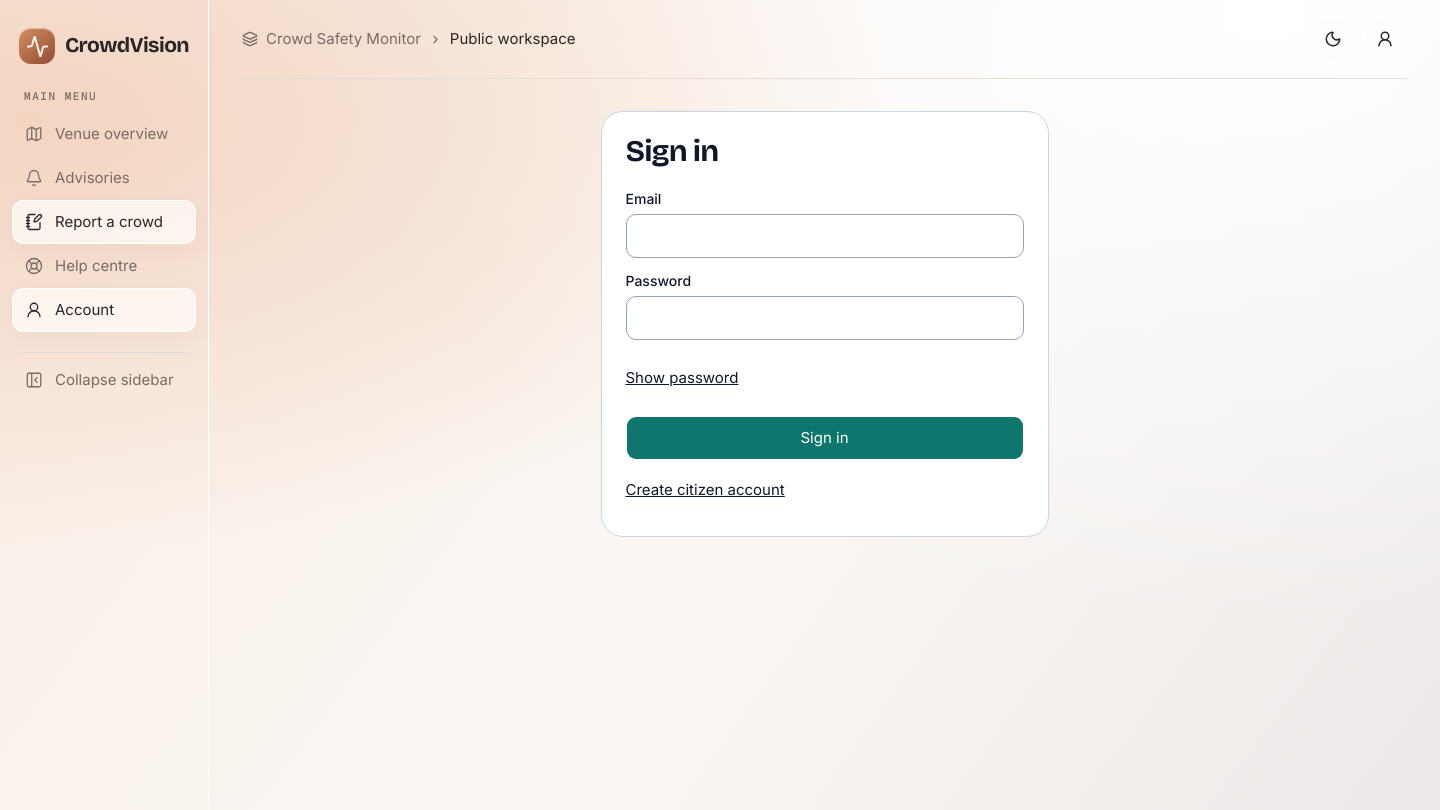
maps server response 401
Type "a@example.com" into the field labelled "Email" at [824, 236], box x1=626 y1=214 x2=1024 y2=258
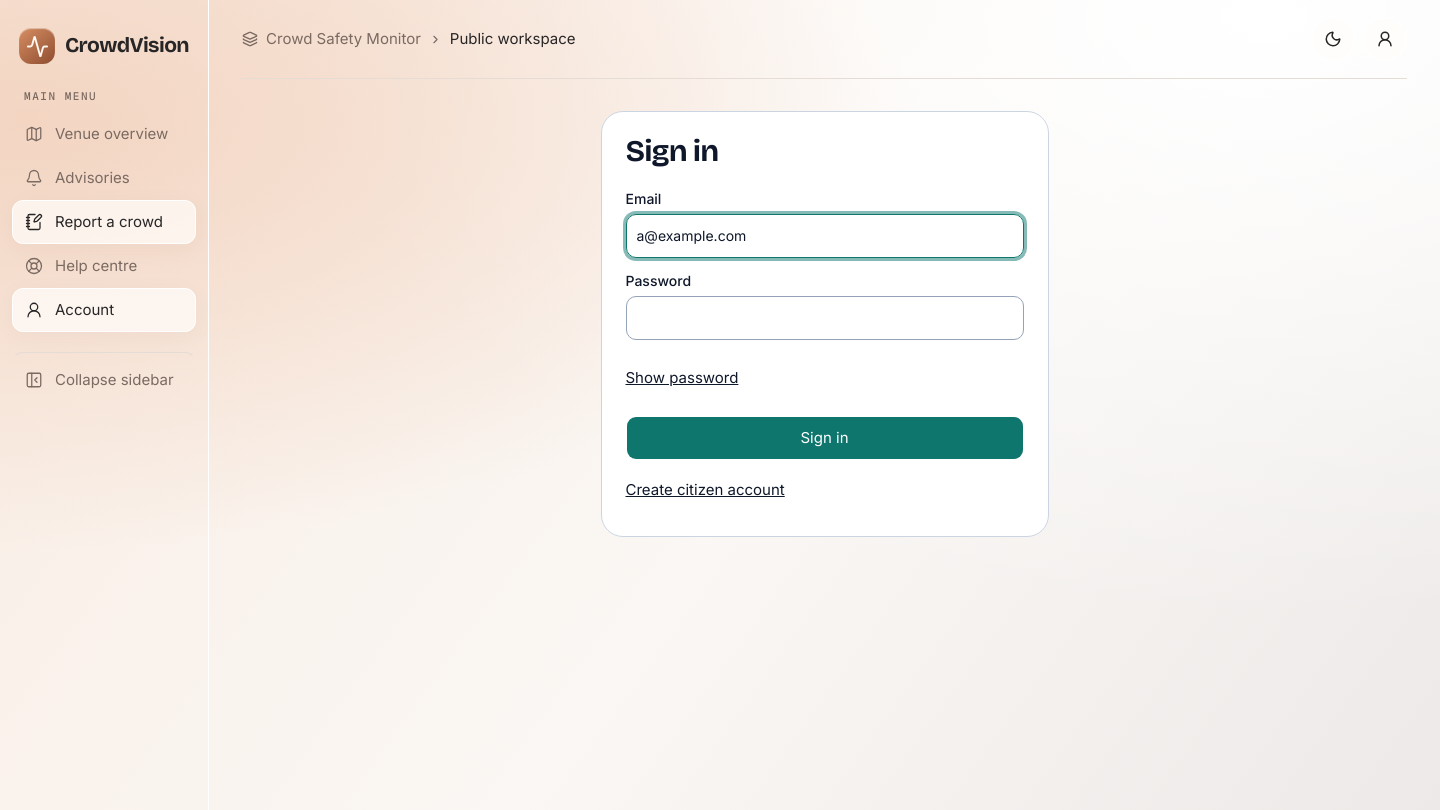
Type "12345678" into the password field labelled "Password" at [824, 318], box x1=626 y1=296 x2=1024 y2=340
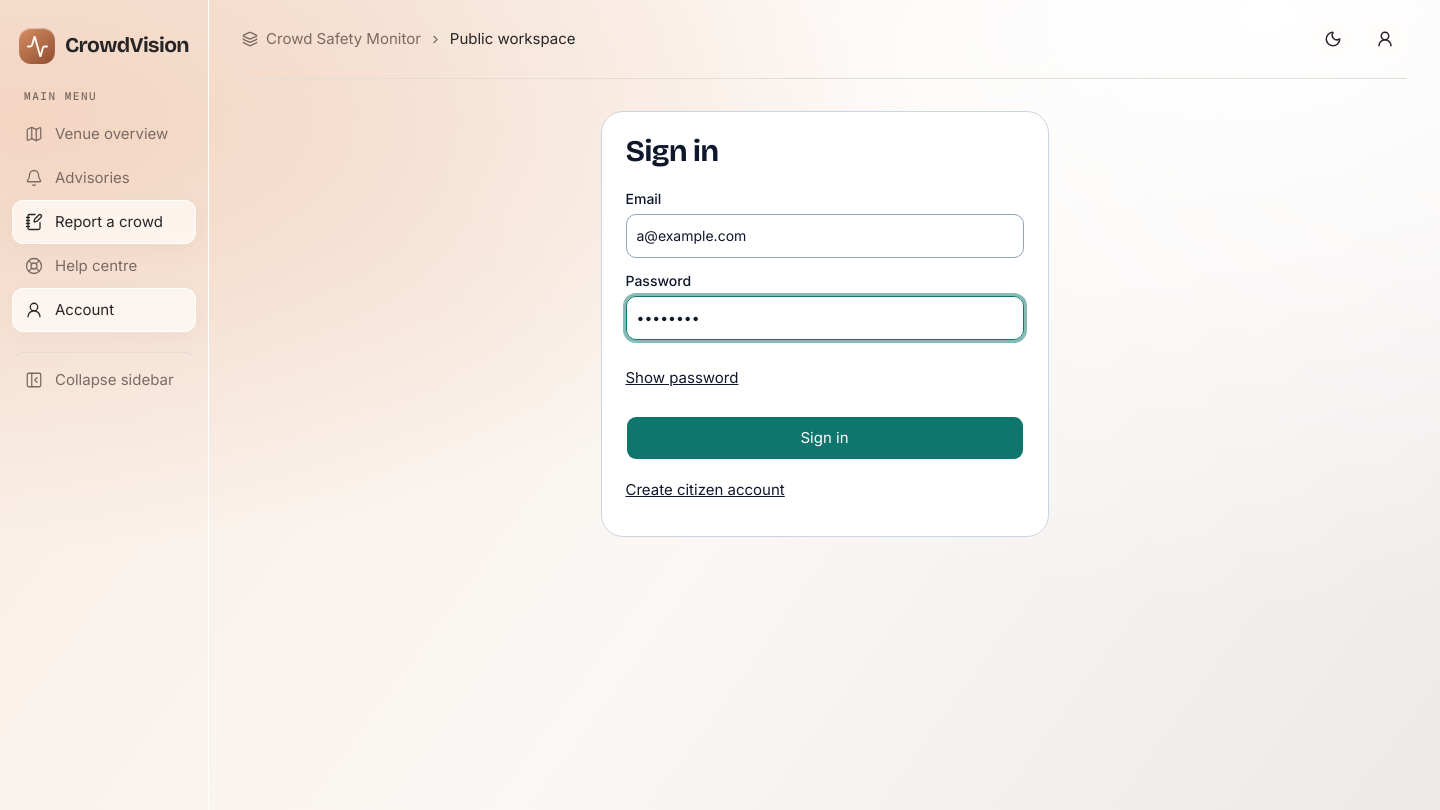
Click the button "Sign in" at [824, 438], box x1=626 y1=416 x2=1024 y2=460
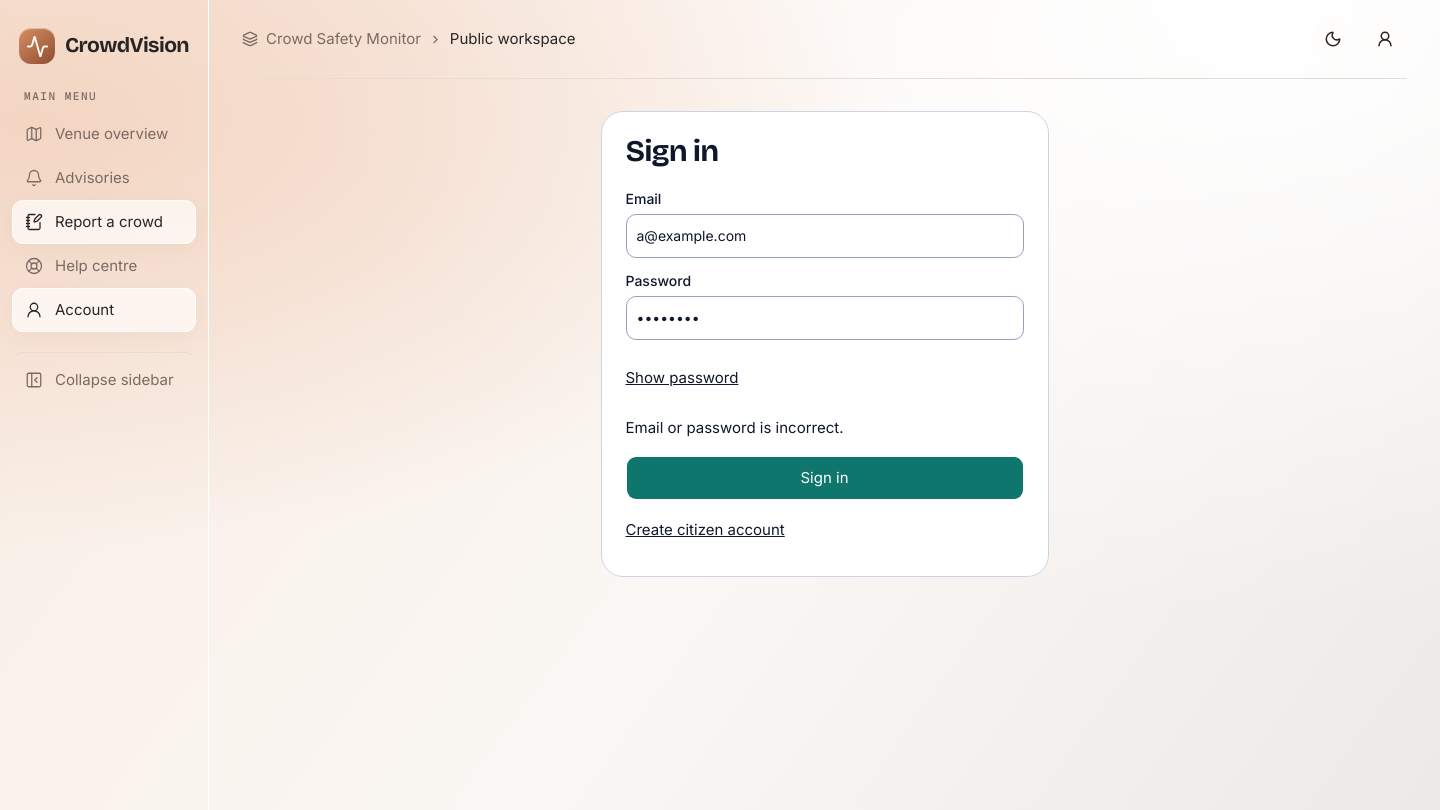
Result: the message reads "Email or password is incorrect." at x1=626 y1=418 x2=844 y2=436
